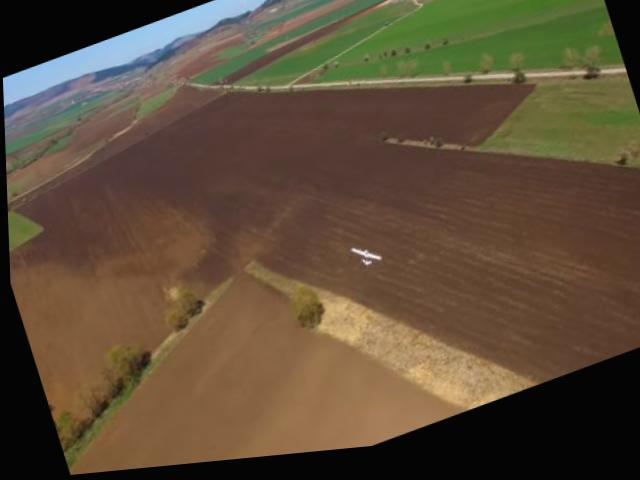uav: (341, 235, 388, 288)
